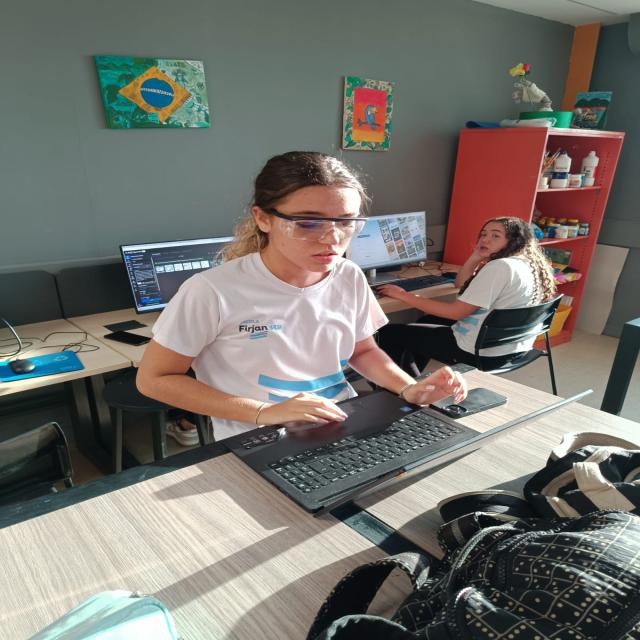oculos-epi: (269, 207, 367, 242)
sem_oculos: (483, 228, 509, 242)
